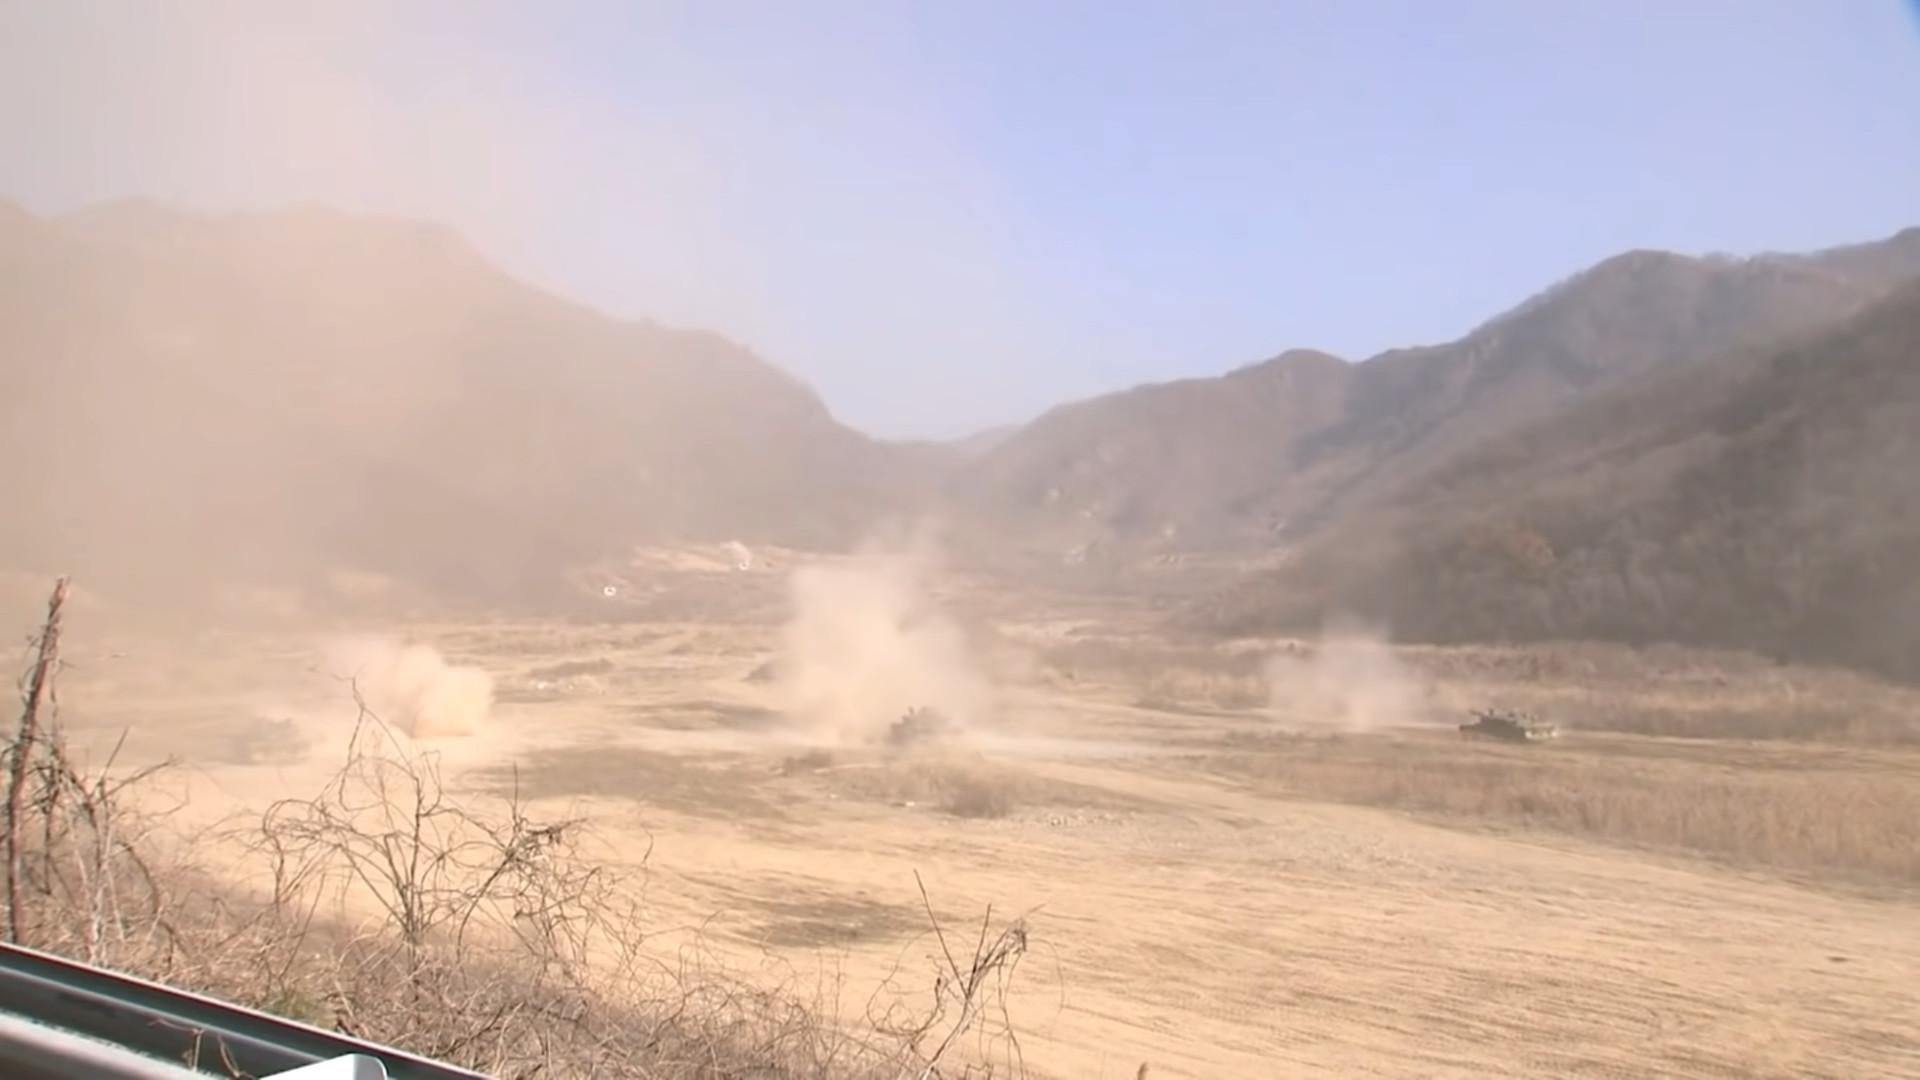tank: (1460, 707, 1559, 744)
